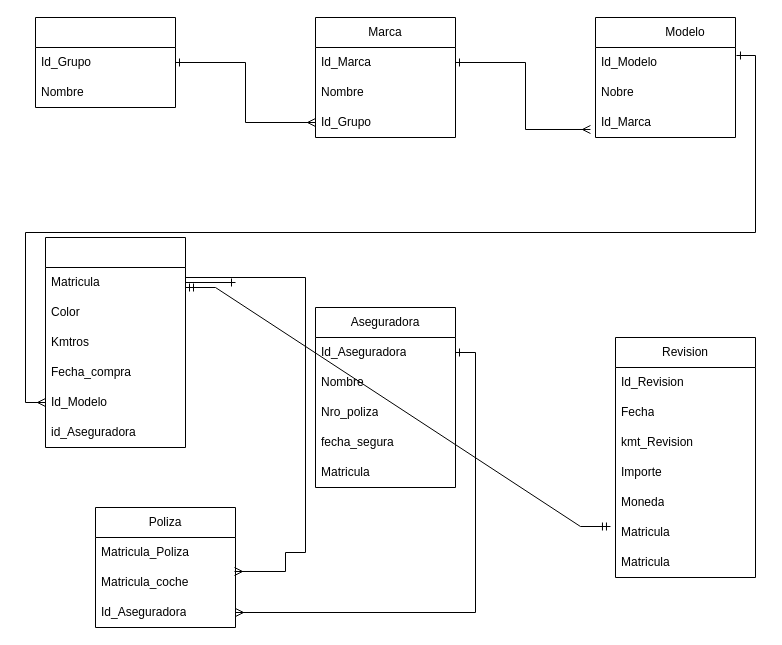
Image size: 782x645. Some labels were removed from this diagram. Here are the shapes that lost their labels. From the top down, the box of each, then its label:
(34, 16, 176, 108): GrupoEmpresarial
(44, 236, 186, 448): coche
